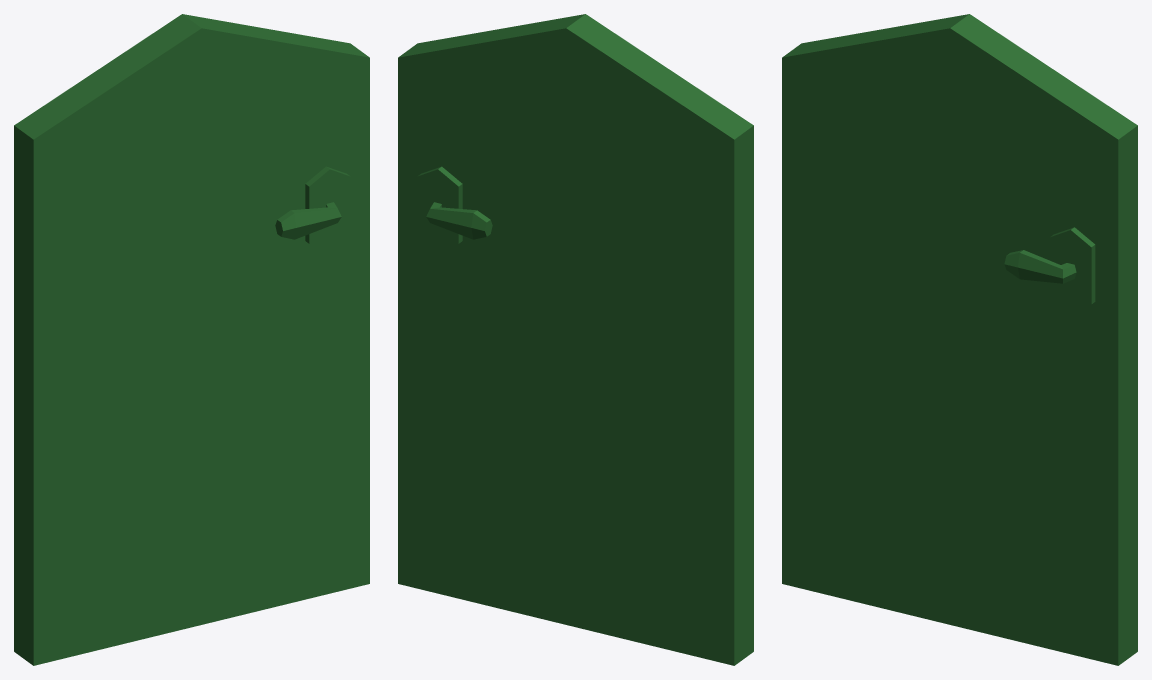
File: props_fence-stone-gate-small.fbx
3 renders of one model, left to right at view 1: azimuth 30°, elevation 25°; view 2: azimuth 150°, elevation 25°; view 3: azimuth 330°, elevation 25°, orthographic.
Parts seen in each view (by area): view 1: props_fence_stone_gate_small; view 2: props_fence_stone_gate_small; view 3: props_fence_stone_gate_small.
Part boxes in pixels (x1,y1,x2,y2): props_fence_stone_gate_small: (14, 14, 369, 665); props_fence_stone_gate_small: (398, 14, 753, 665); props_fence_stone_gate_small: (782, 14, 1137, 665).
Bounding box in the file's own units: 118 × 200 × 28.39.
